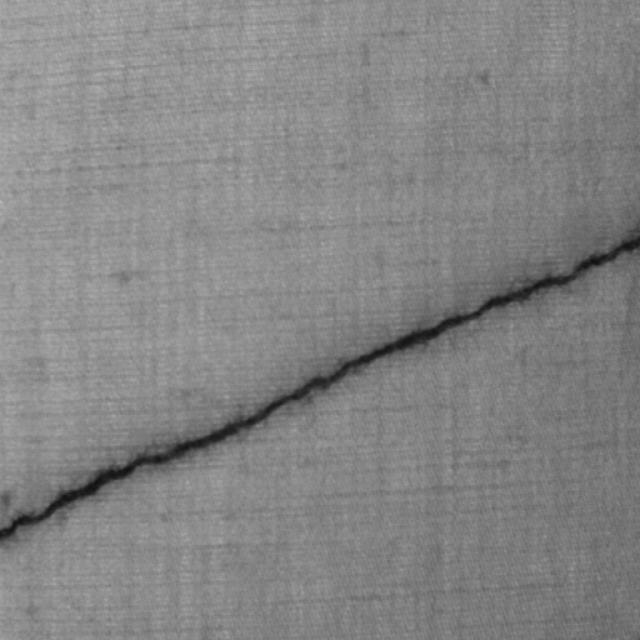objects: (0, 228, 639, 548)
